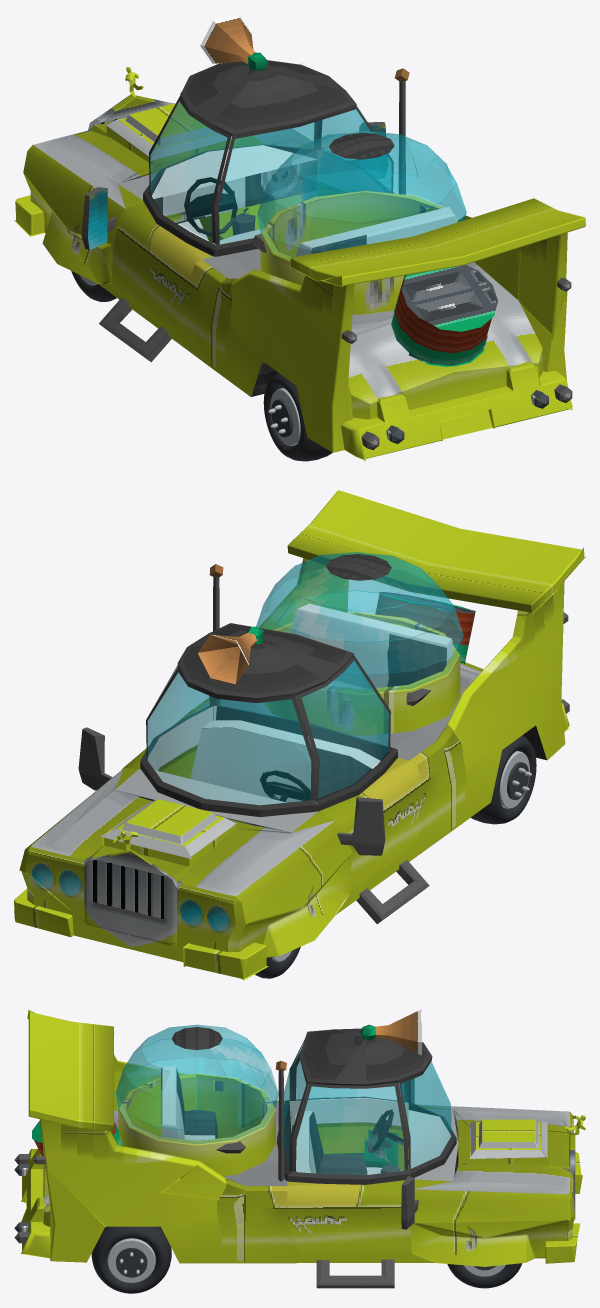
The model's file is car-carhom_v.glb.
3 views of the same model, one above another, from view 1: azimuth 30°, elevation 25°; view 2: azimuth 150°, elevation 25°; view 3: azimuth 270°, elevation 25° (orthographic). The views are drawn at different scales.
Visible parts, largest first — view 1: carhom_vShape.003, carhom_vShape.005, carhom_vShape.007, carhom_vShape.001, carhom_vShape.002, carhom_vShape.004, TrunkRotShape.003, DoorDRotShape.013, DoorDWindShape, HoodRotShape.006, Rounded tire.016, carhom_vShape (+5 smaller); view 2: carhom_vShape.005, carhom_vShape.007, carhom_vShape.003, carhom_vShape.004, carhom_vShape.002, HoodRotShape.006, DoorDWindShape, DoorDRotShape.013, TrunkRotShape.003, carhom_vShape.001, DoorPIntShape, DoorPWindShape (+5 smaller); view 3: carhom_vShape.003, carhom_vShape.005, carhom_vShape.007, DoorPWindShape, carhom_vShape.002, DoorPRotShape.014, carhom_vShape.004, DooDIntShape, HoodRotShape.006, carhom_vShape.001, Rounded tire.019, DoorPRotShape.015 (+5 smaller).
Boxes of the visible parts, bbox=[...] form: carhom_vShape.003: bbox=[23, 142, 585, 452]; carhom_vShape.005: bbox=[81, 14, 572, 449]; carhom_vShape.007: bbox=[150, 102, 466, 259]; carhom_vShape.001: bbox=[202, 249, 572, 461]; carhom_vShape.002: bbox=[23, 145, 457, 368]; carhom_vShape.004: bbox=[14, 102, 387, 249]; TrunkRotShape.003: bbox=[391, 265, 497, 366]; DoorDRotShape.013: bbox=[111, 200, 201, 330]; DoorDWindShape: bbox=[150, 101, 227, 241]; HoodRotShape.006: bbox=[56, 94, 293, 183]; Rounded tire.016: bbox=[263, 372, 332, 461]; carhom_vShape: bbox=[184, 177, 277, 396]; carhom_vShape.005: bbox=[78, 554, 569, 923]; carhom_vShape.007: bbox=[147, 552, 463, 804]; carhom_vShape.003: bbox=[19, 490, 585, 952]; carhom_vShape.004: bbox=[14, 768, 334, 980]; carhom_vShape.002: bbox=[236, 612, 460, 957]; HoodRotShape.006: bbox=[53, 789, 291, 946]; DoorDWindShape: bbox=[302, 661, 388, 798]; DoorDRotShape.013: bbox=[318, 760, 425, 893]; TrunkRotShape.003: bbox=[375, 592, 475, 664]; carhom_vShape.001: bbox=[200, 662, 569, 760]; DoorPIntShape: bbox=[147, 706, 212, 778]; DoorPWindShape: bbox=[148, 667, 209, 755]; carhom_vShape.003: bbox=[27, 1009, 573, 1266]; carhom_vShape.005: bbox=[14, 1009, 456, 1288]; carhom_vShape.007: bbox=[115, 1024, 451, 1168]; DoorPWindShape: bbox=[296, 1086, 404, 1174]; carhom_vShape.002: bbox=[118, 1073, 448, 1176]; DoorPRotShape.014: bbox=[287, 1180, 411, 1253]; carhom_vShape.004: bbox=[401, 1083, 582, 1263]; DooDIntShape: bbox=[291, 1097, 408, 1170]; HoodRotShape.006: bbox=[453, 1110, 575, 1221]; carhom_vShape.001: bbox=[21, 1101, 287, 1258]; Rounded tire.019: bbox=[91, 1226, 171, 1293]; DoorPRotShape.015: bbox=[287, 1082, 410, 1184].
Size of the model in its own units: 2.73 by 2.45 by 5.37.
11 materials, 8 textured.
